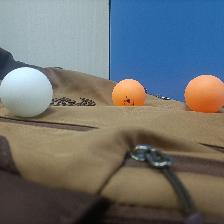WhiteBall: (1, 66, 52, 116)
YellowBall: (184, 74, 224, 112), (112, 78, 145, 106)
